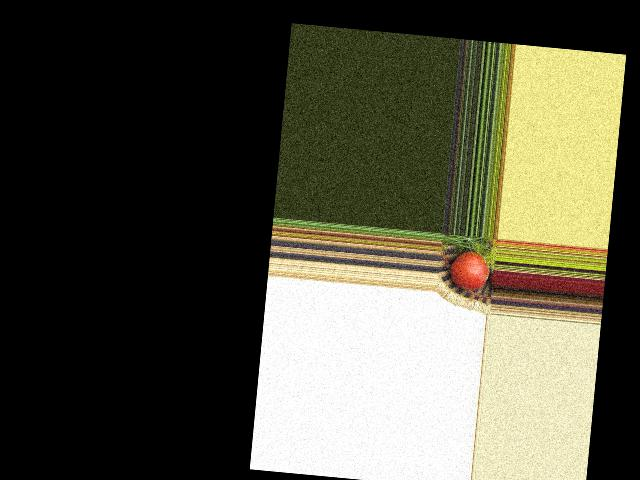tomato: (449, 249, 490, 291)
